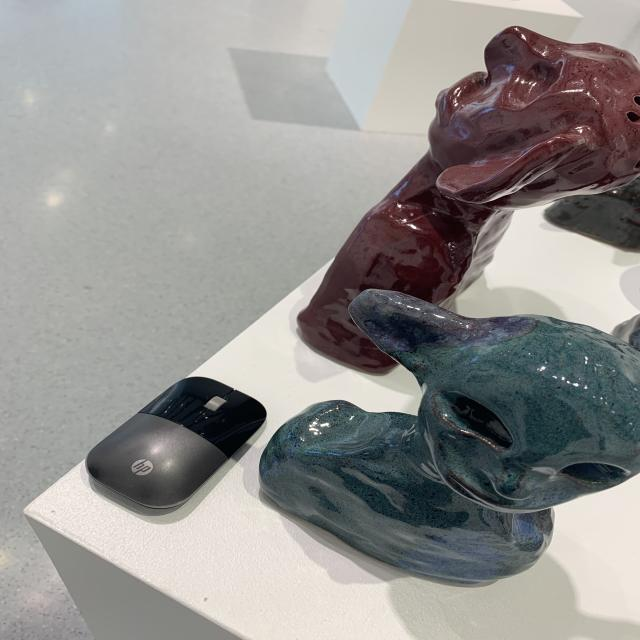Mouse: (85, 371, 262, 516)
